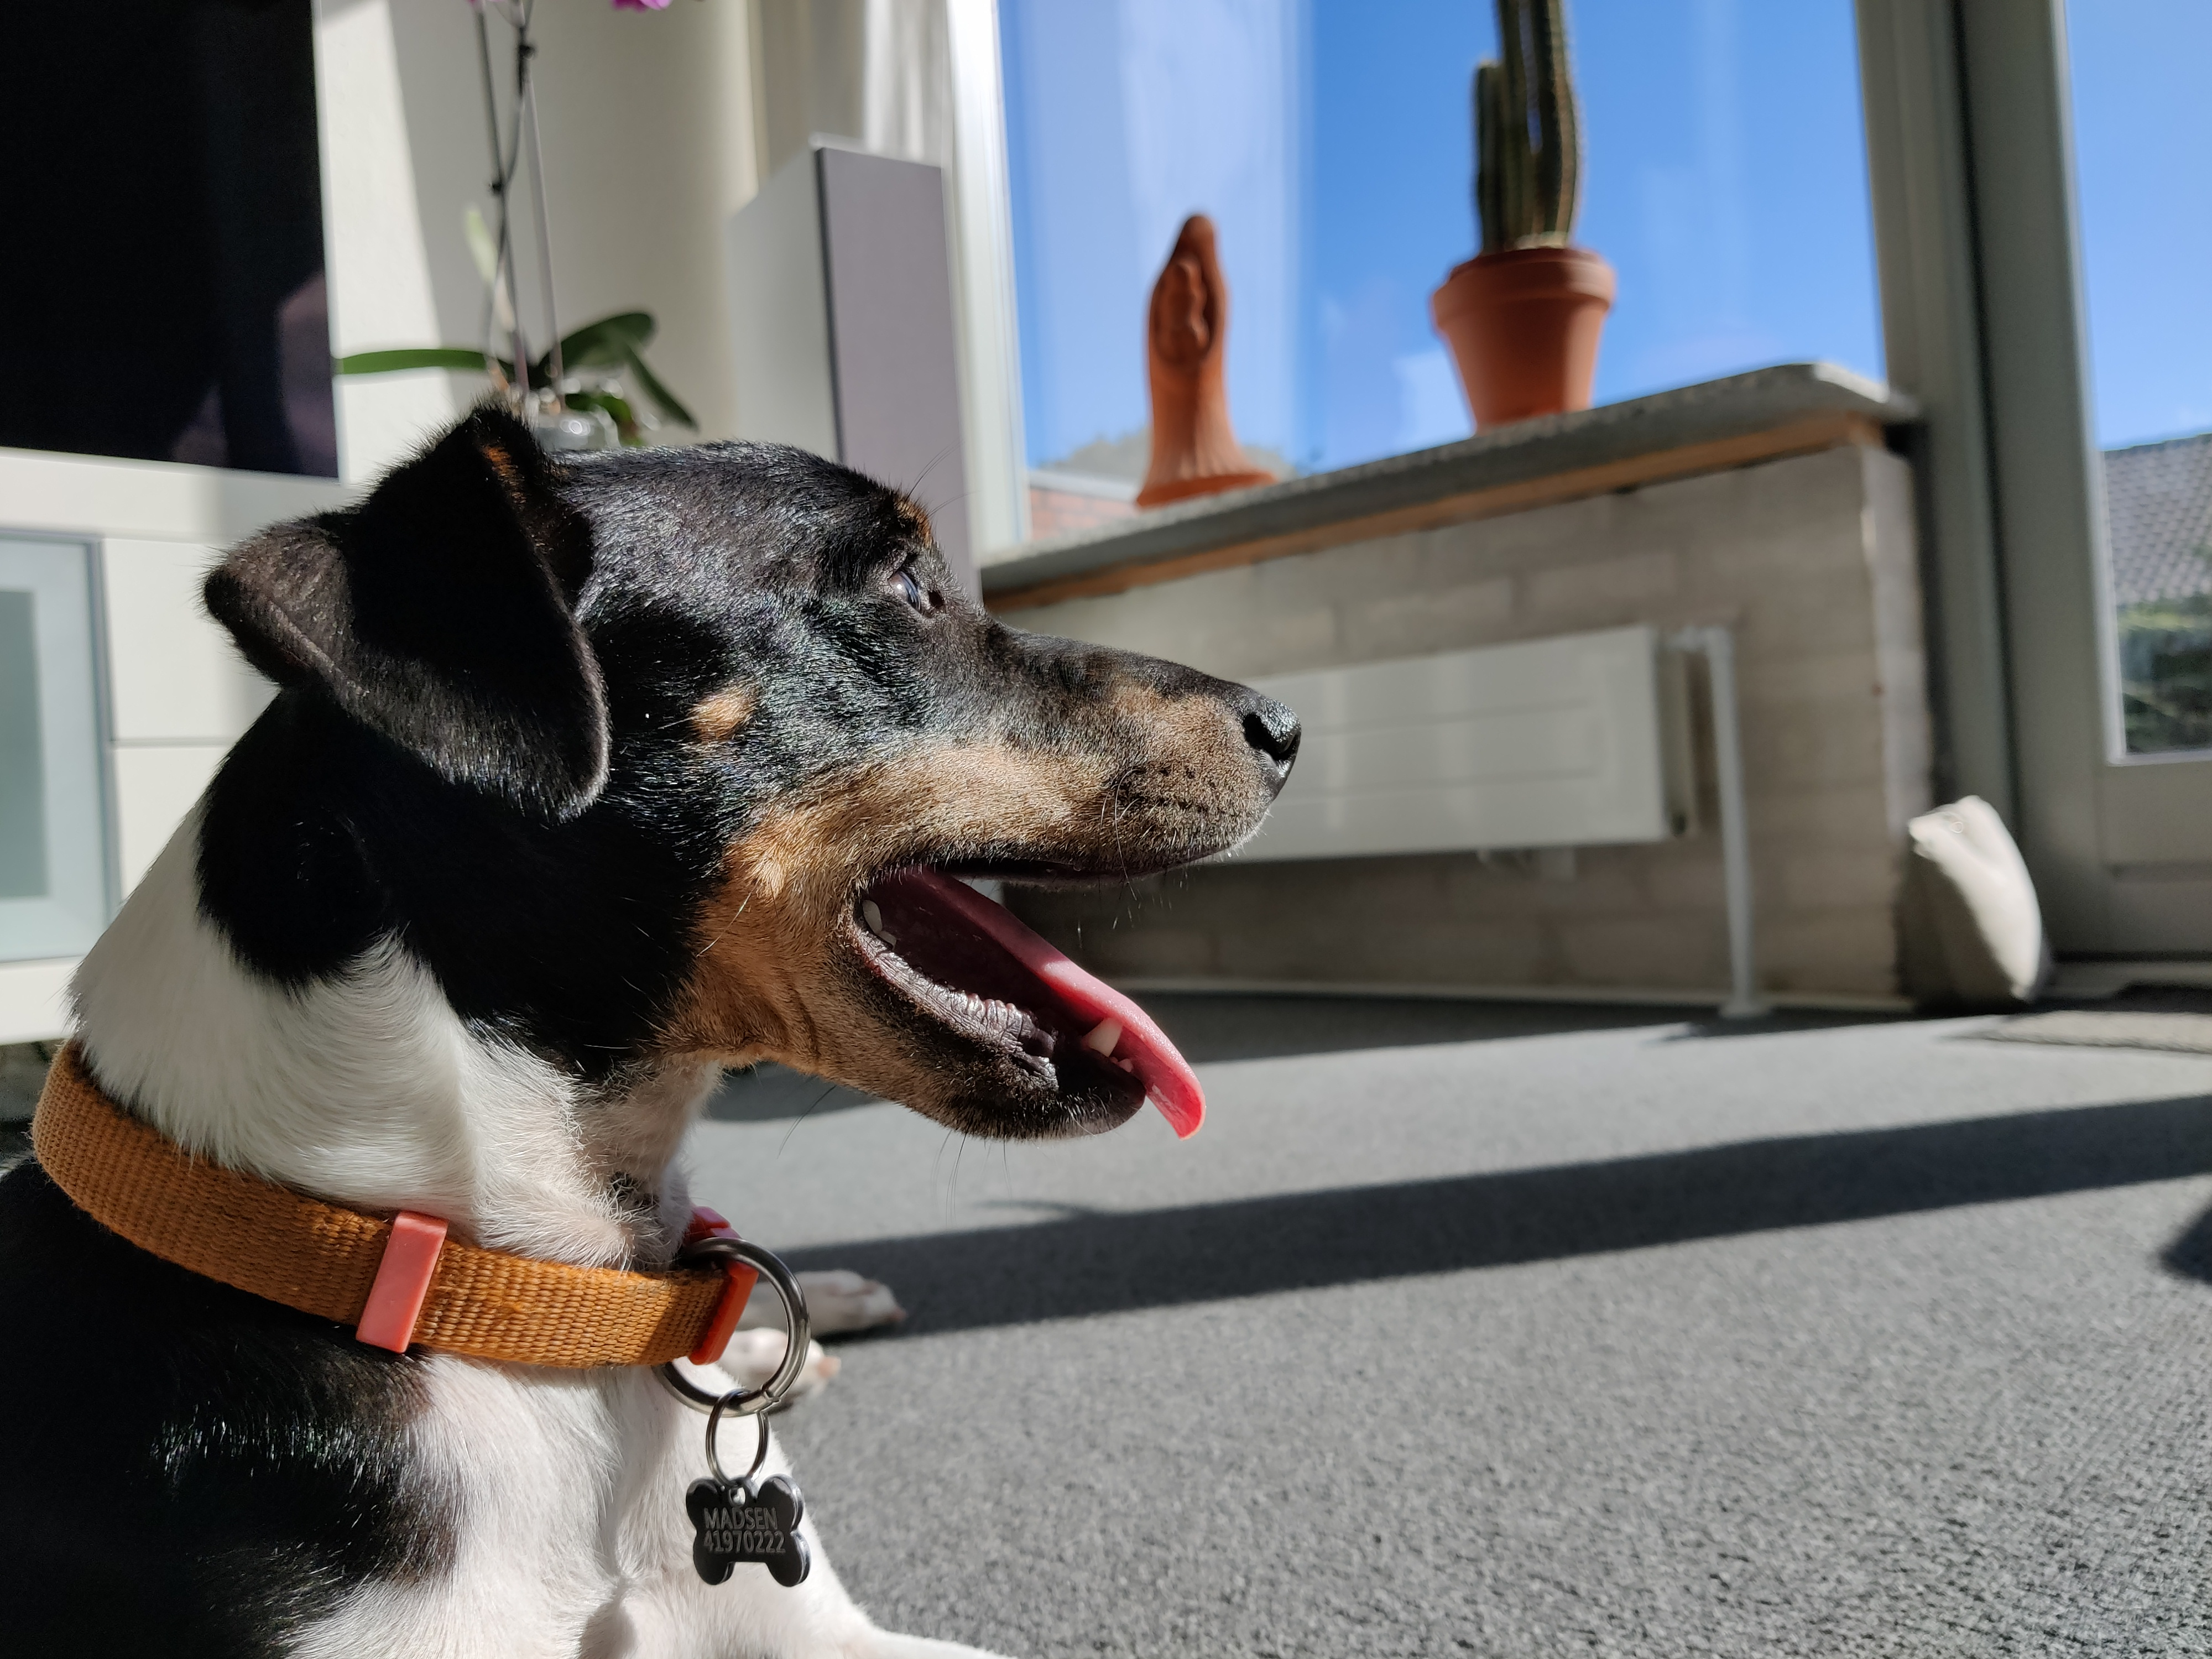Dog: (0, 382, 1320, 1659)
